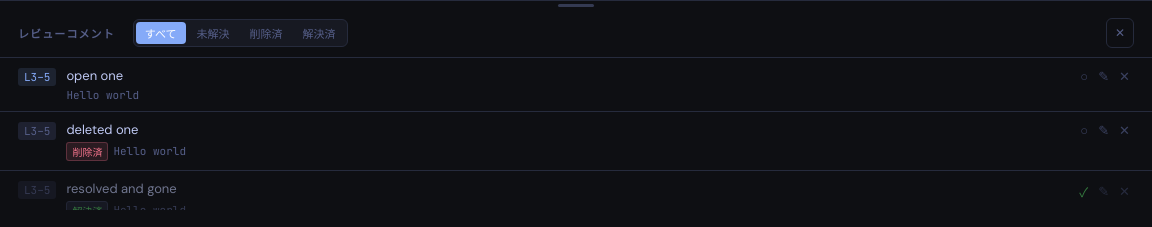
Test: CommentsPanel › フィルタ（すべて / 未解決 / 削除済 / 解決済） › 削除済を選ぶと未解決かつ元の文章が消えたものだけ表示される
Click the button with test id "filter-deleted". click: (266, 33)
box: [241, 22, 292, 44]
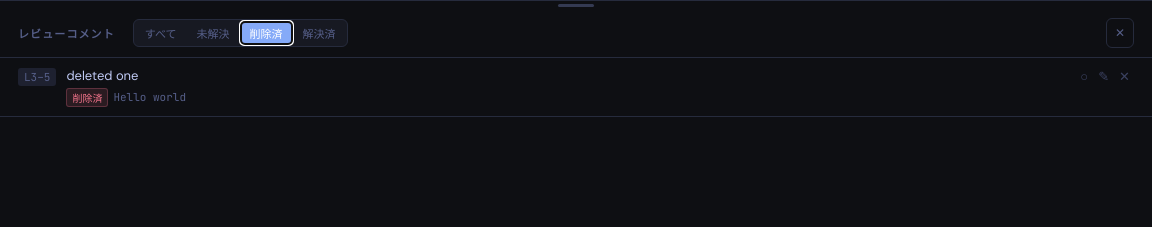
Expected: the text "deleted one" is shown, [66, 67, 138, 84]
Expected: the number of list items with test id "comment-item" is 1, [0, 58, 1151, 117]
